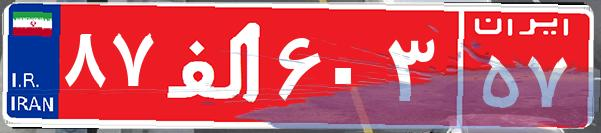0: (330, 28, 385, 110)
3: (385, 28, 445, 110)
5: (475, 38, 525, 113)
6: (273, 28, 330, 110)
7: (110, 28, 158, 105), (525, 38, 570, 115)
8: (57, 26, 110, 107)
الف: (158, 15, 273, 115)
